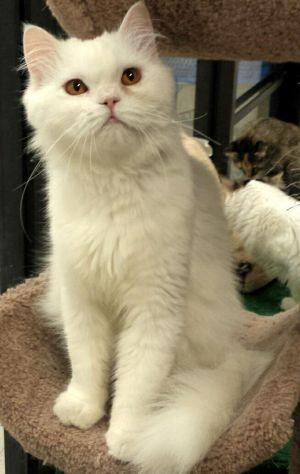persian: (10, 1, 195, 189)
